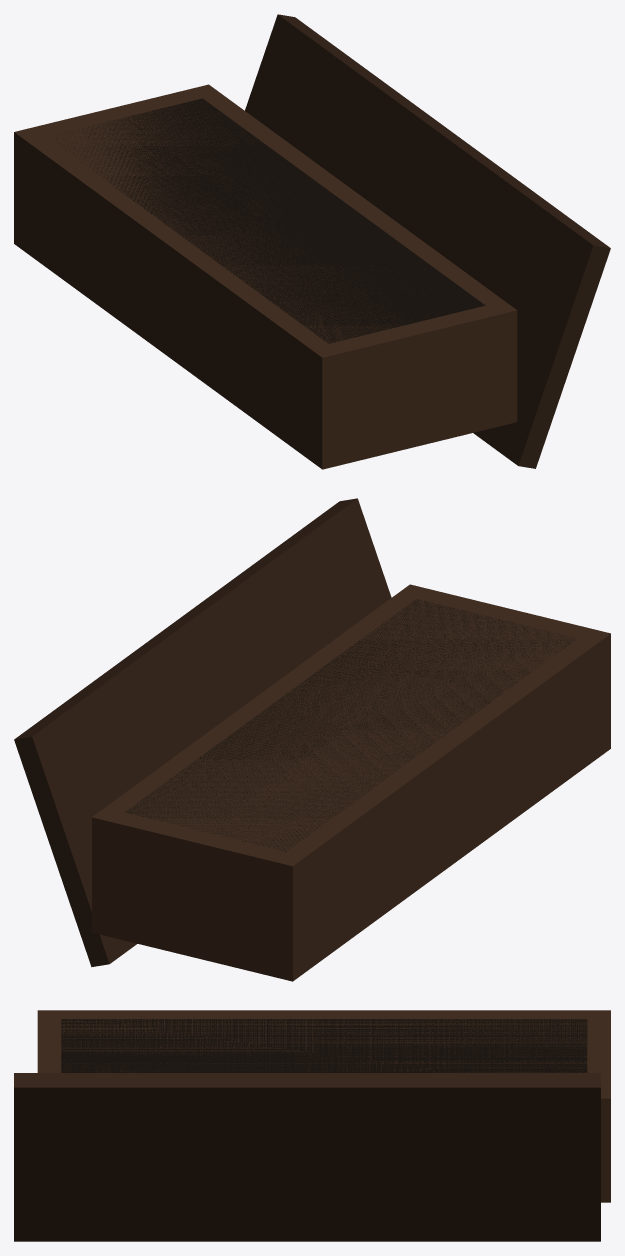
File: coffin-open.d4228be9.glb
3 renders of one model, top to bottom at view 1: azimuth 30°, elevation 25°; view 2: azimuth 150°, elevation 25°; view 3: azimuth 270°, elevation 25°, orthographic. The views are drawn at different scales.
Parts seen in each view (by area): view 1: body; view 2: body; view 3: body.
Part boxes in pixels (x1,y1,x2,y2): body: (14,14,610,469); body: (14,498,610,981); body: (14,1010,610,1241).
Size of the model in its own units: 0.8775 by 0.6369 by 1.77.
